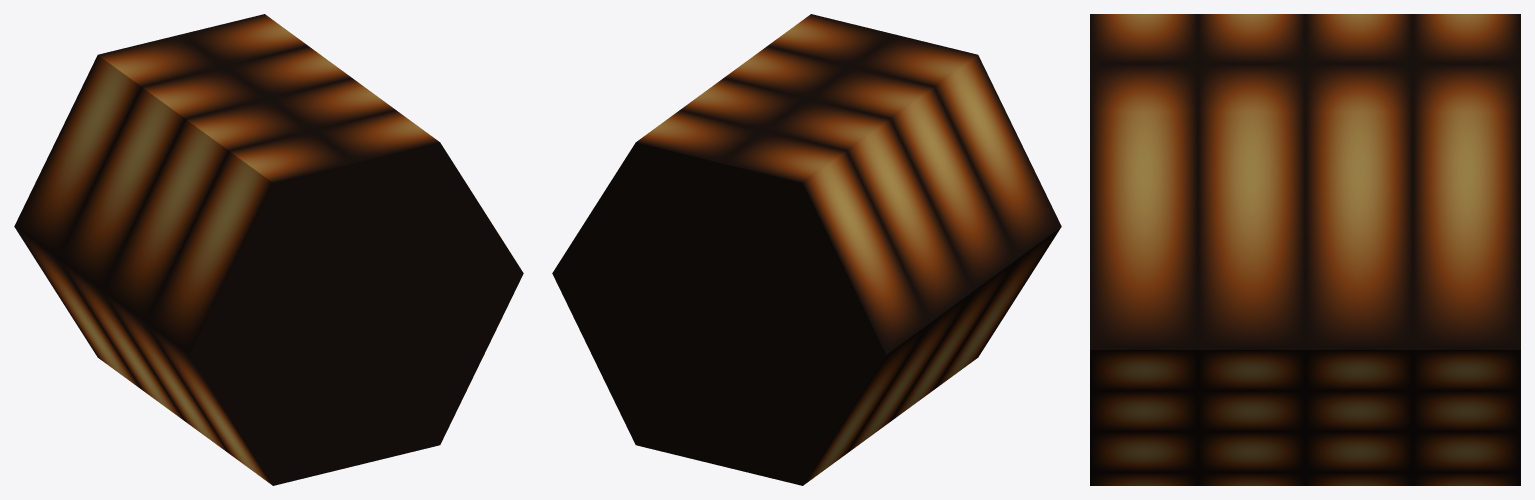
File: hexprism-warm-amber.glb
3 renders of one model, left to right at view 1: azimuth 30°, elevation 25°; view 2: azimuth 150°, elevation 25°; view 3: azimuth 270°, elevation 25°, orthographic. The views are drawn at different scales.
Parts seen in each view (by area): view 1: world; view 2: world; view 3: world.
Boxes of the visible parts, bbox=[...] form: world: bbox=[14, 14, 523, 485]; world: bbox=[552, 14, 1061, 485]; world: bbox=[1090, 14, 1520, 485].
Size of the model in its own units: 1.1 by 0.9526 by 1.
Materials: 1 (1 with a texture image).
